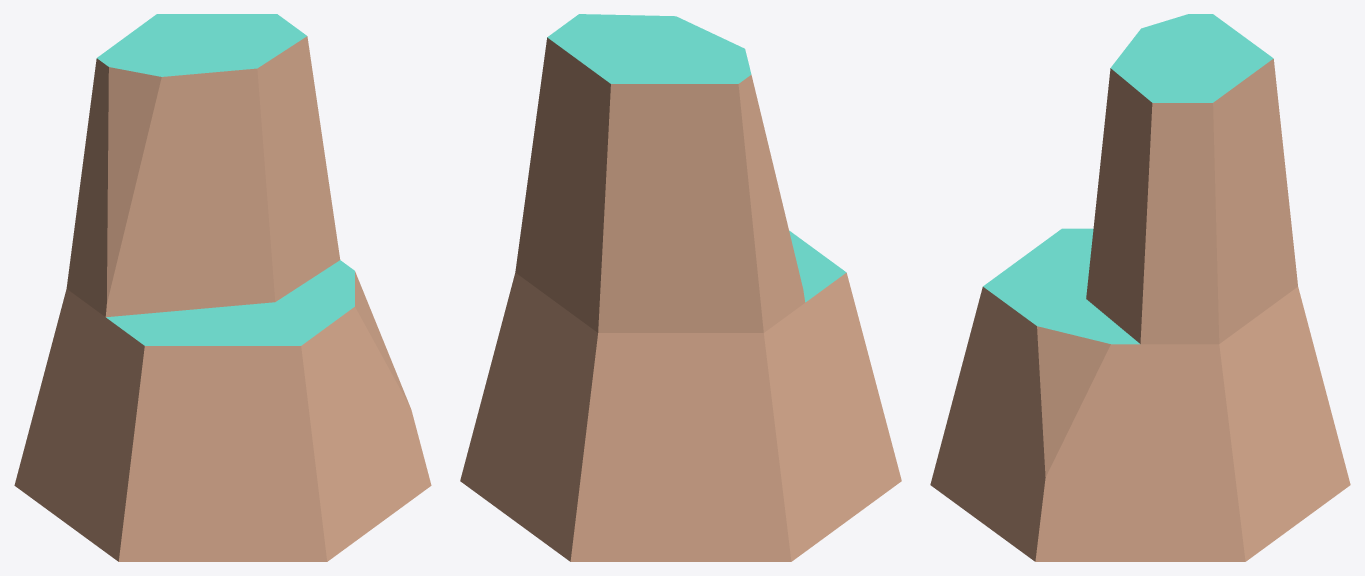
The model's file is rock_tallF.gltf.
3 renders of one model, left to right at view 1: azimuth 30°, elevation 25°; view 2: azimuth 150°, elevation 25°; view 3: azimuth 270°, elevation 25°, orthographic. The views are drawn at different scales.
Visible parts, largest first — view 1: rock_tallF; view 2: rock_tallF; view 3: rock_tallF.
Part boxes in pixels (<box>): rock_tallF: <box>14,14,431,561</box>; rock_tallF: <box>460,14,901,561</box>; rock_tallF: <box>930,14,1350,561</box>.
Bounding box in the file's own units: 0.4437 × 0.5737 × 0.5123.
